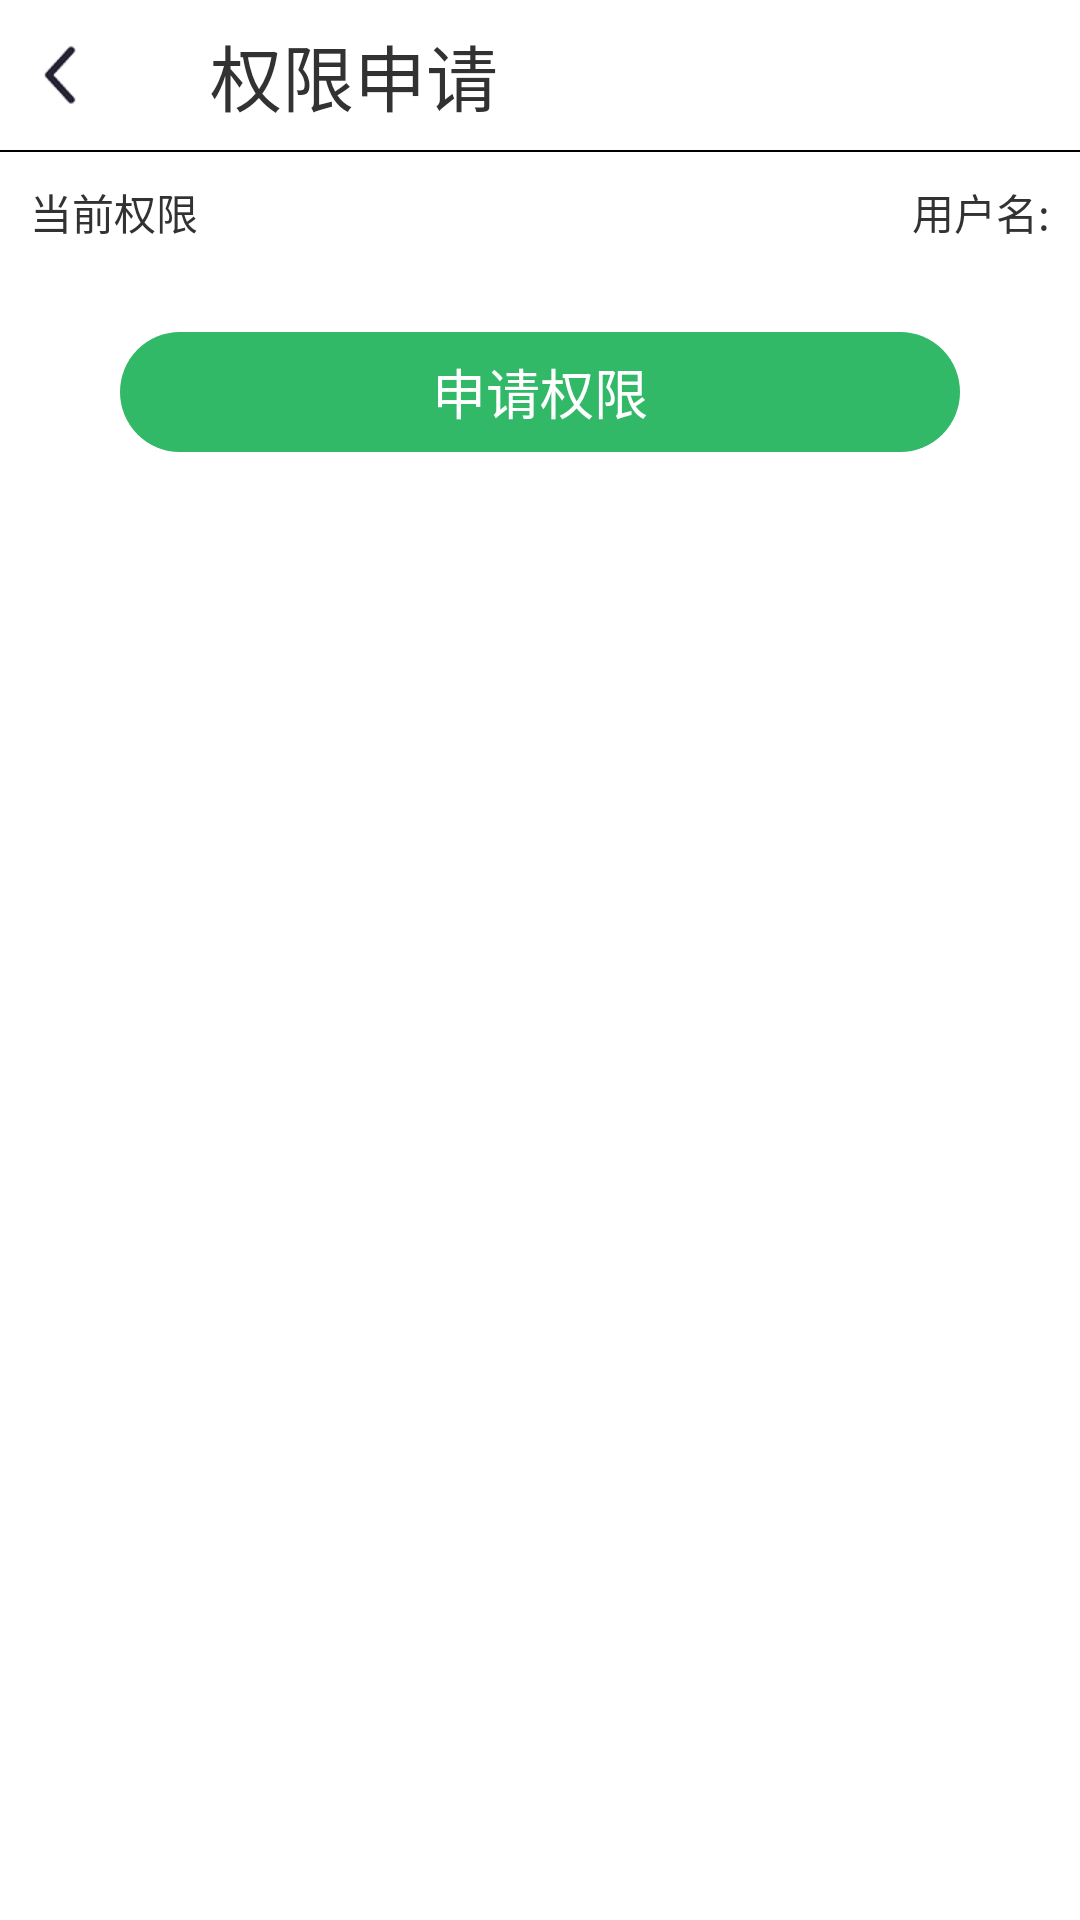

Icon bounding boxes for this 1080 × 1920 phone screenshot, format [x1, y1, x2, y2]:
arrow back: [44, 46, 76, 104]
